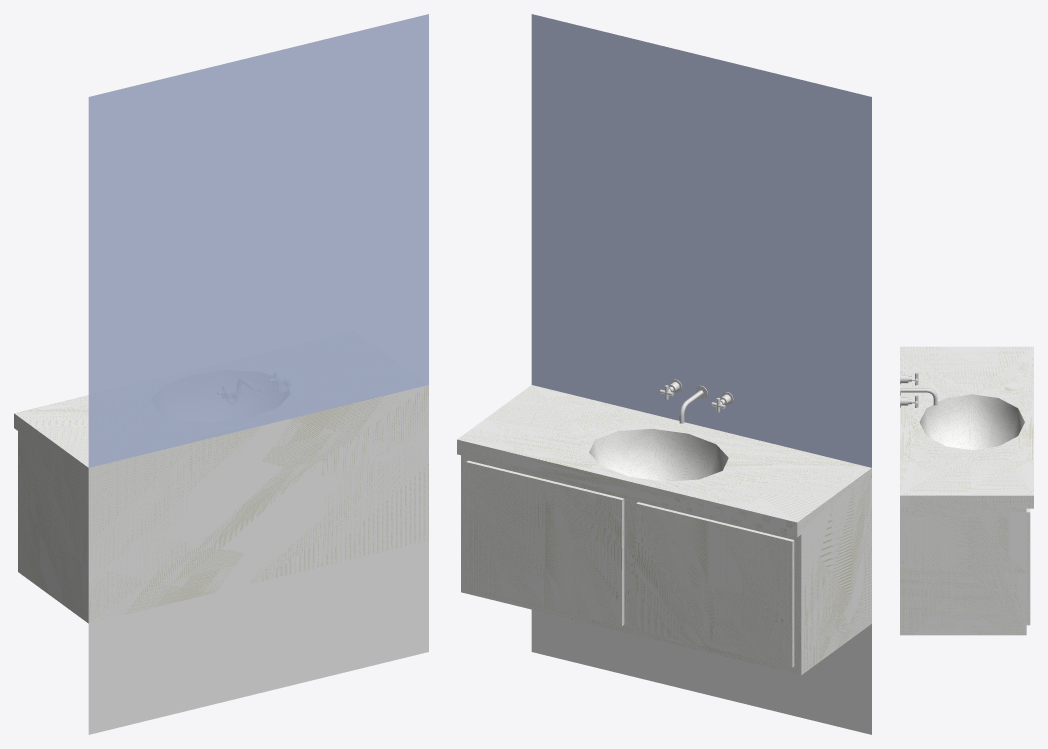
3 views of the same model, side by side, from view 1: azimuth 30°, elevation 25°; view 2: azimuth 150°, elevation 25°; view 3: azimuth 270°, elevation 25° (orthographic). The views are drawn at different scales.
Parts seen in each view (by area): view 1: mesh37_mesh37-geometry; view 2: mesh37_mesh37-geometry, mesh1_mesh1-geometry; view 3: mesh37_mesh37-geometry, mesh1_mesh1-geometry.
Boxes of the visible parts, <box> form: mesh37_mesh37-geometry: <box>14,14,428,734</box>; mesh37_mesh37-geometry: <box>457,14,871,734</box>; mesh1_mesh1-geometry: <box>466,460,794,667</box>; mesh37_mesh37-geometry: <box>900,346,1033,635</box>; mesh1_mesh1-geometry: <box>1026,508,1030,625</box>.
Bounding box in the file's own units: 0.4792 × 0.8586 × 0.1821.
